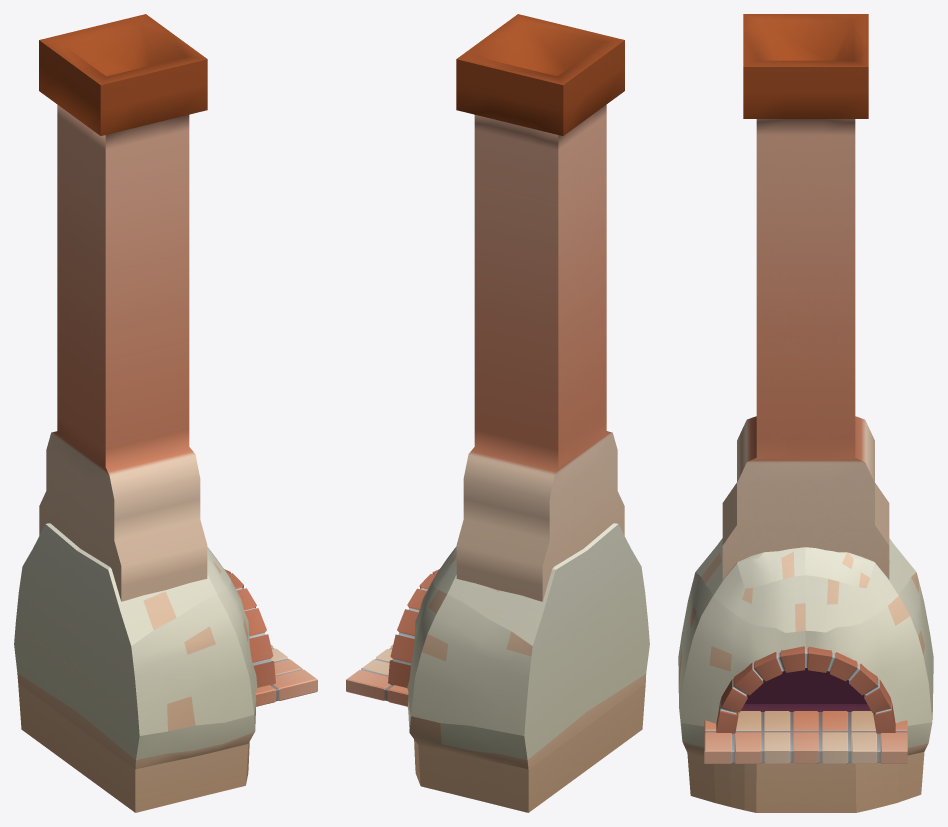
The model's file is Oven.fbx.
3 renders of one model, left to right at view 1: azimuth 30°, elevation 25°; view 2: azimuth 150°, elevation 25°; view 3: azimuth 270°, elevation 25°, orthographic.
Parts seen in each view (by area): view 1: pCube22, oven1, oven2, oven3; view 2: pCube22, oven1, oven2, oven3; view 3: pCube22, oven1, oven3, oven2.
Part boxes in pixels (x1=…): pCube22: x1=39, y1=14, x2=207, y2=601; oven1: x1=14, y1=523, x2=257, y2=812; oven2: x1=224, y1=569, x2=275, y2=687; oven3: x1=255, y1=645, x2=317, y2=706; pCube22: x1=456, y1=14, x2=624, y2=601; oven1: x1=407, y1=523, x2=649, y2=812; oven2: x1=388, y1=569, x2=439, y2=687; oven3: x1=346, y1=645, x2=408, y2=706; pCube22: x1=722, y1=14, x2=889, y2=579; oven1: x1=678, y1=538, x2=933, y2=812; oven3: x1=704, y1=711, x2=907, y2=763; oven2: x1=716, y1=646, x2=895, y2=733.
Size of the model in its own units: 2.36 by 8.1 by 2.6.
